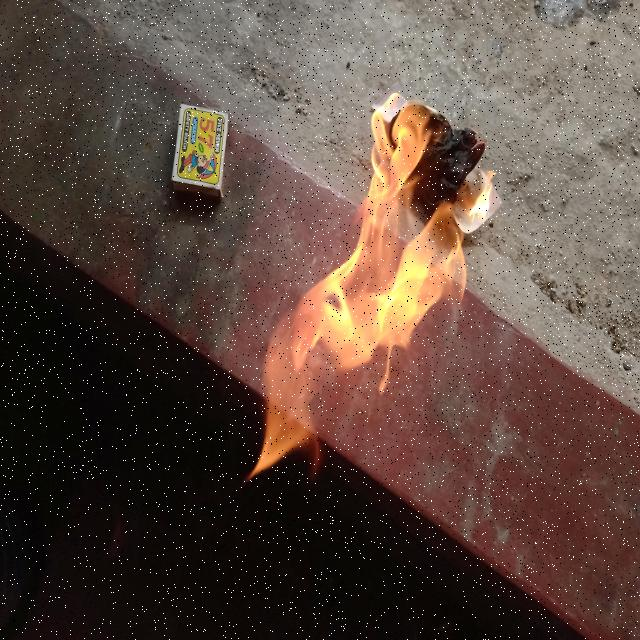fire: (254, 101, 504, 485)
